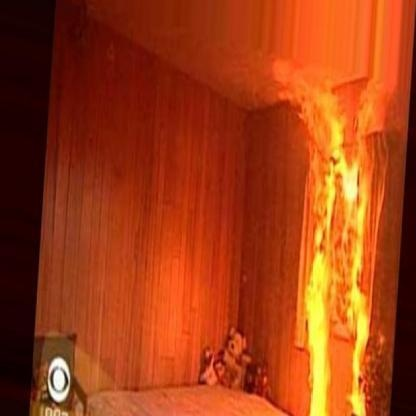fire: (270, 8, 411, 416)
